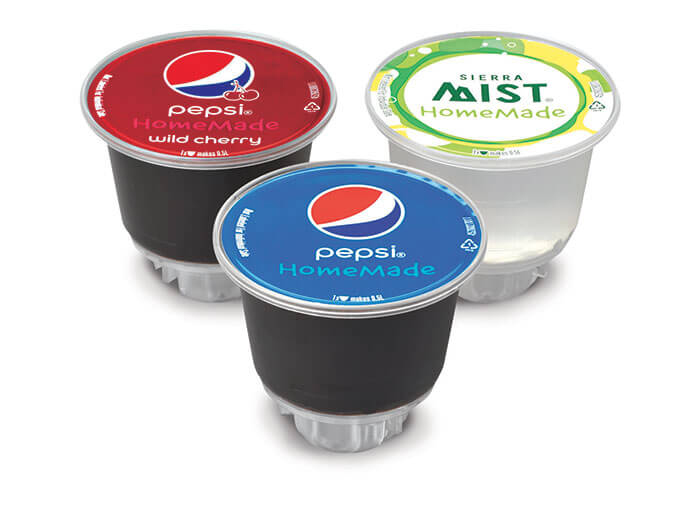pepsi: (310, 184, 401, 235), (164, 50, 251, 93)
